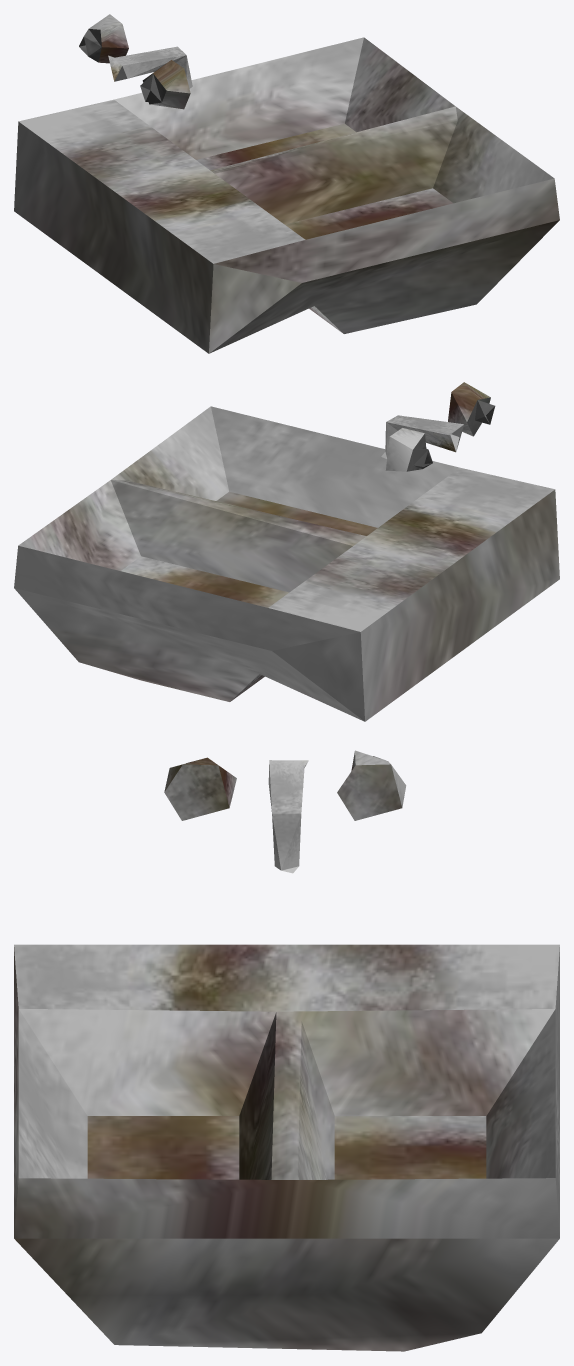
The model's file is pan-frying.lod1.glb.
The picture shows the model from 3 angles, top to bottom: view 1: azimuth 30°, elevation 25°; view 2: azimuth 150°, elevation 25°; view 3: azimuth 270°, elevation 25°; orthographic projection. The views are drawn at different scales.
Visible parts, largest first — view 1: pan-frying; view 2: pan-frying; view 3: pan-frying.
Boxes of the visible parts, bbox=[...] form: pan-frying: bbox=[14, 14, 559, 353]; pan-frying: bbox=[14, 382, 559, 721]; pan-frying: bbox=[14, 750, 559, 1351].
Bounding box in the file's own units: 0.45 × 0.3676 × 0.4326.
Materials: 1 (1 with a texture image).
